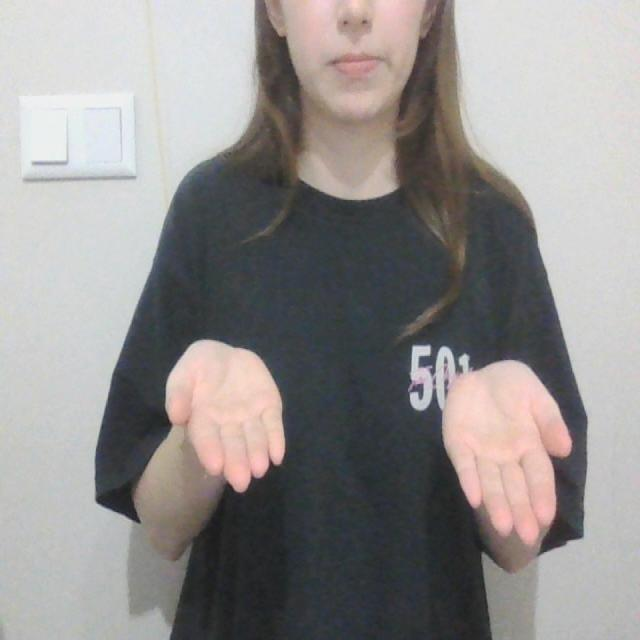Evet: (163, 335, 575, 552)
